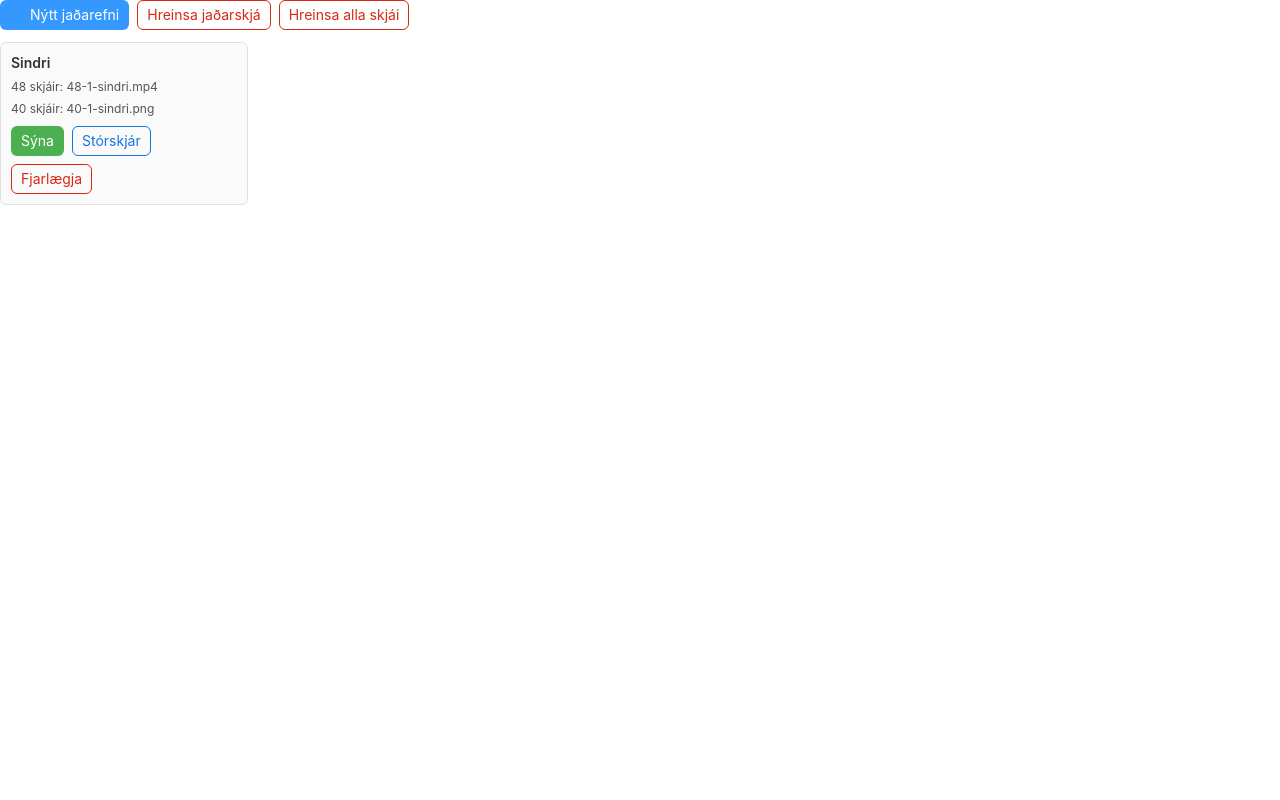
Test: PerimeterMediaPairs › disables Vista until name, 48 and 40 files are selected
Click the button "Nýtt jaðarefni" at x=65, y=15, box [0,0,129,30]
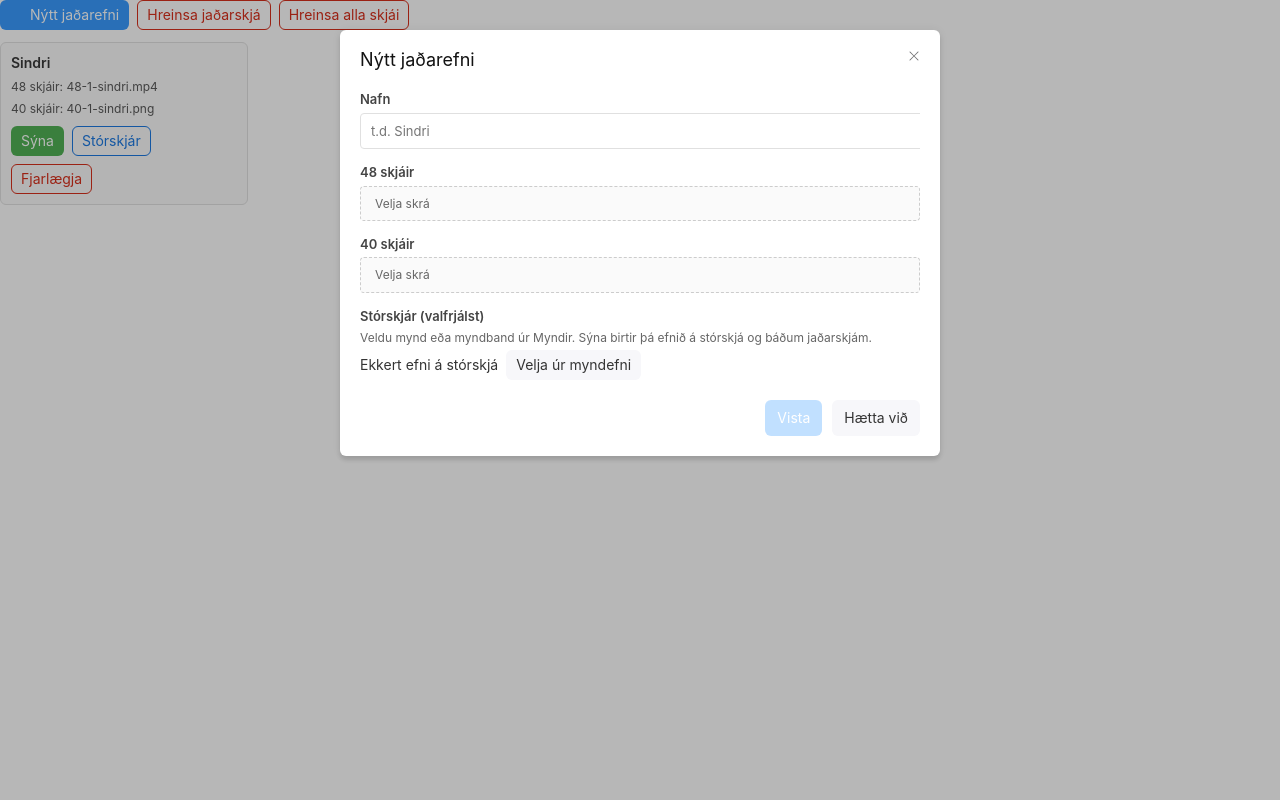
Result: the button "Vista" is disabled at [765,400,822,436]
